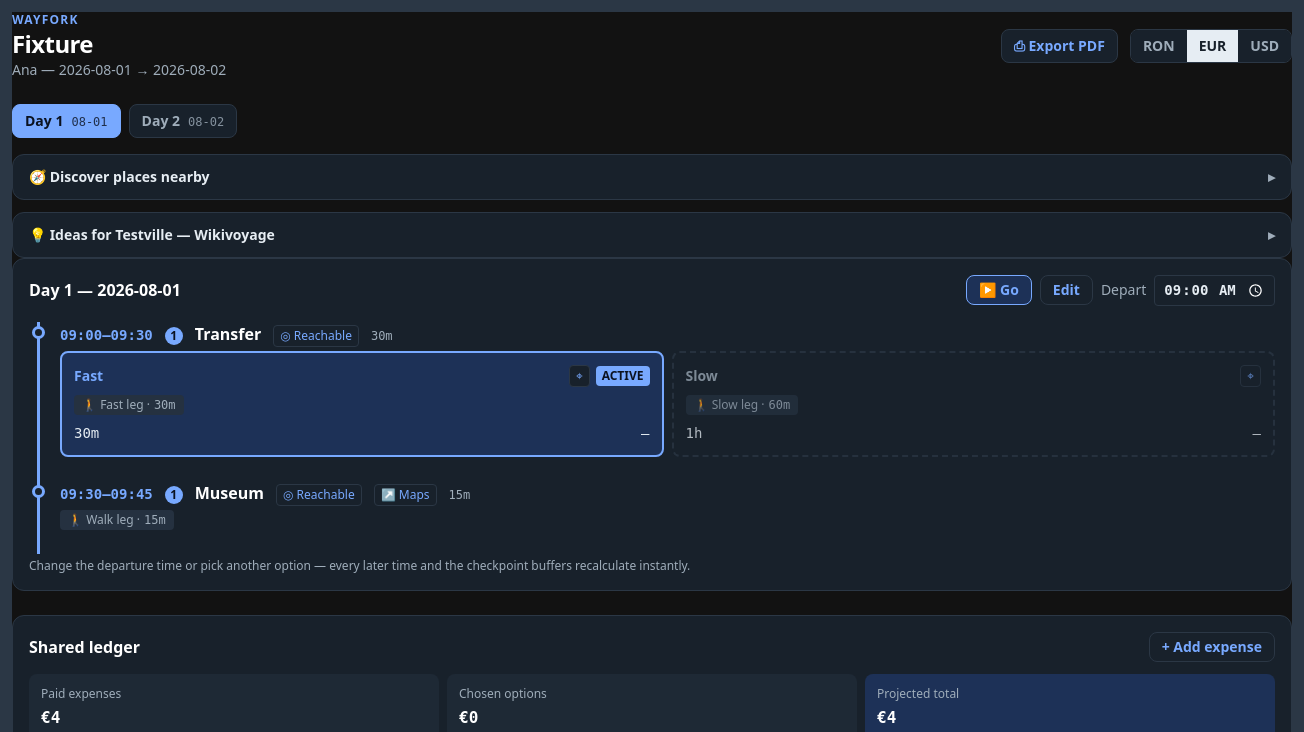
Test: TripView › ripples a variant switch into the downstream slot's rendered times
Check: the text "09:30–09:45" is shown, box x1=60 y1=484 x2=153 y2=504
Click the text "Slow": (702,376) x1=686 y1=366 x2=718 y2=386
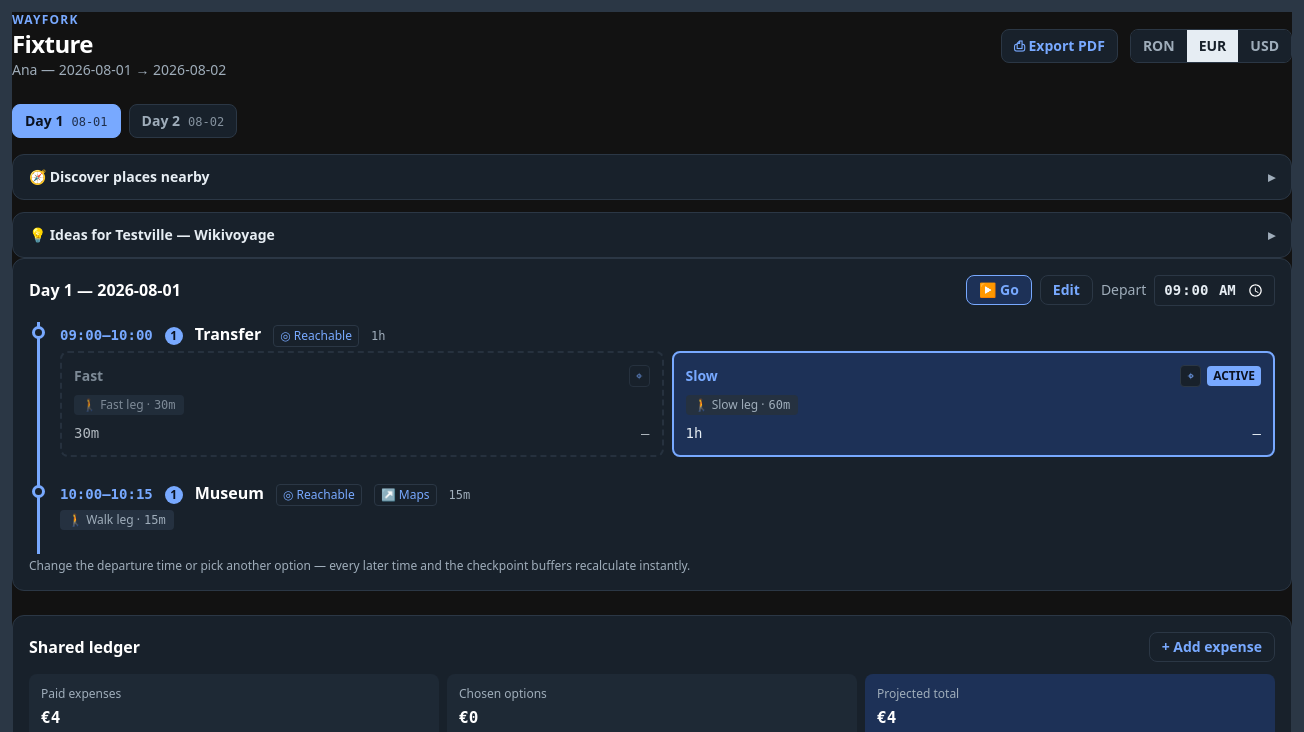
Check: the text "10:00–10:15" is shown, box x1=60 y1=484 x2=153 y2=504
Check: the text "09:30–09:45" is gone
